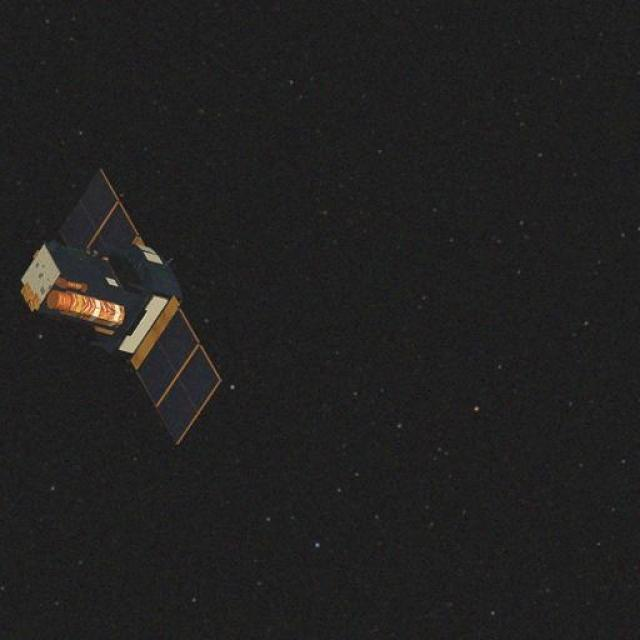soho: (15, 165, 227, 438)
